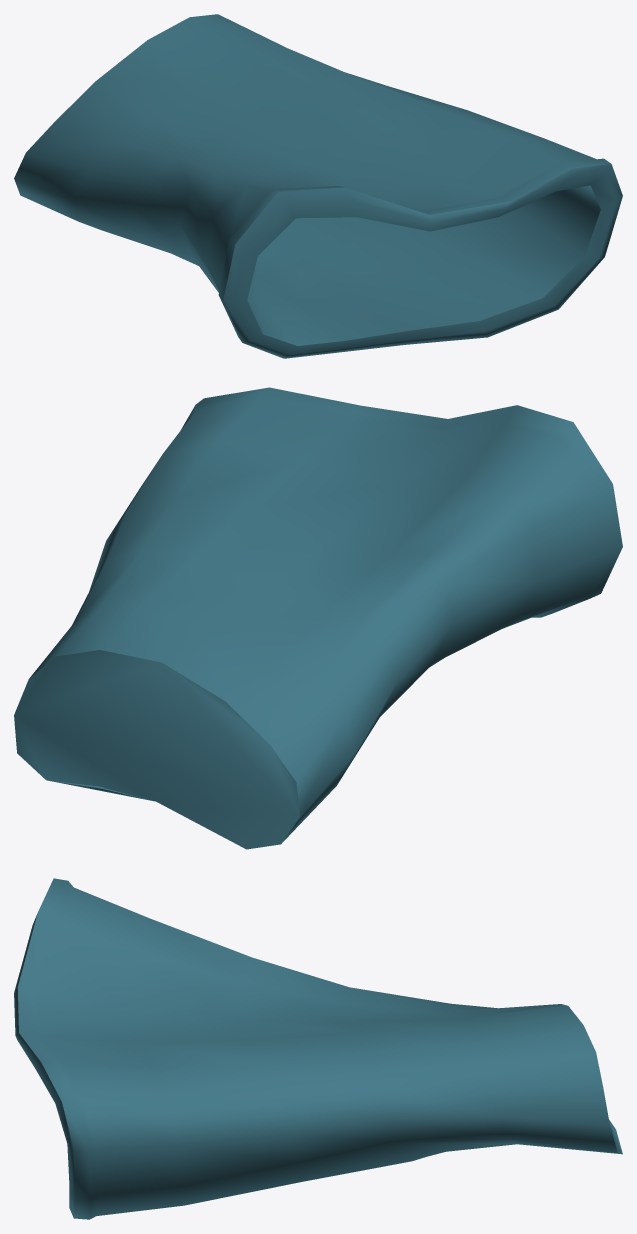
Rendered from SM_SmallTrashkit_Cup_004.fbx.
3 views of the same model, one above another, from view 1: azimuth 30°, elevation 25°; view 2: azimuth 150°, elevation 25°; view 3: azimuth 270°, elevation 25° (orthographic). The views are drawn at different scales.
Parts seen in each view (by area): view 1: SM_SmallTrashkit_Cup_004; view 2: SM_SmallTrashkit_Cup_004; view 3: SM_SmallTrashkit_Cup_004.
Part boxes in pixels (left/top/right/bottom): SM_SmallTrashkit_Cup_004: left=14, top=14, right=622, bottom=358; SM_SmallTrashkit_Cup_004: left=14, top=387, right=622, bottom=849; SM_SmallTrashkit_Cup_004: left=14, top=878, right=622, bottom=1219.
Bounding box in the file's own units: 10.17 × 5.15 × 13.14.
